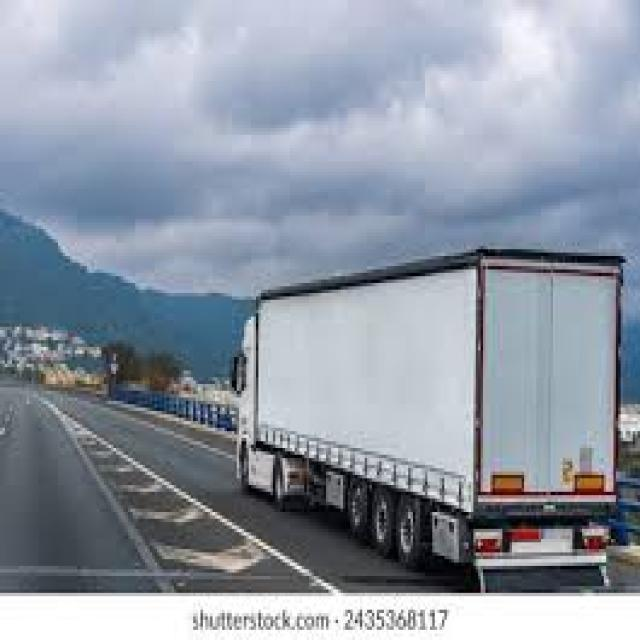covered: (229, 243, 628, 586)
